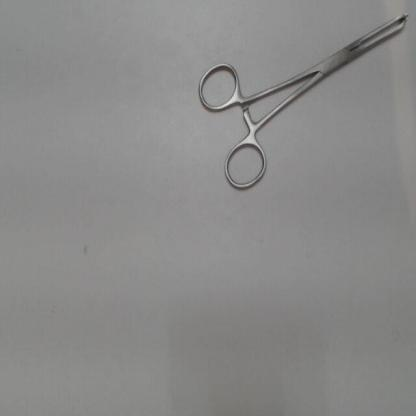Allis Tissue Forceps: (192, 6, 413, 201)
